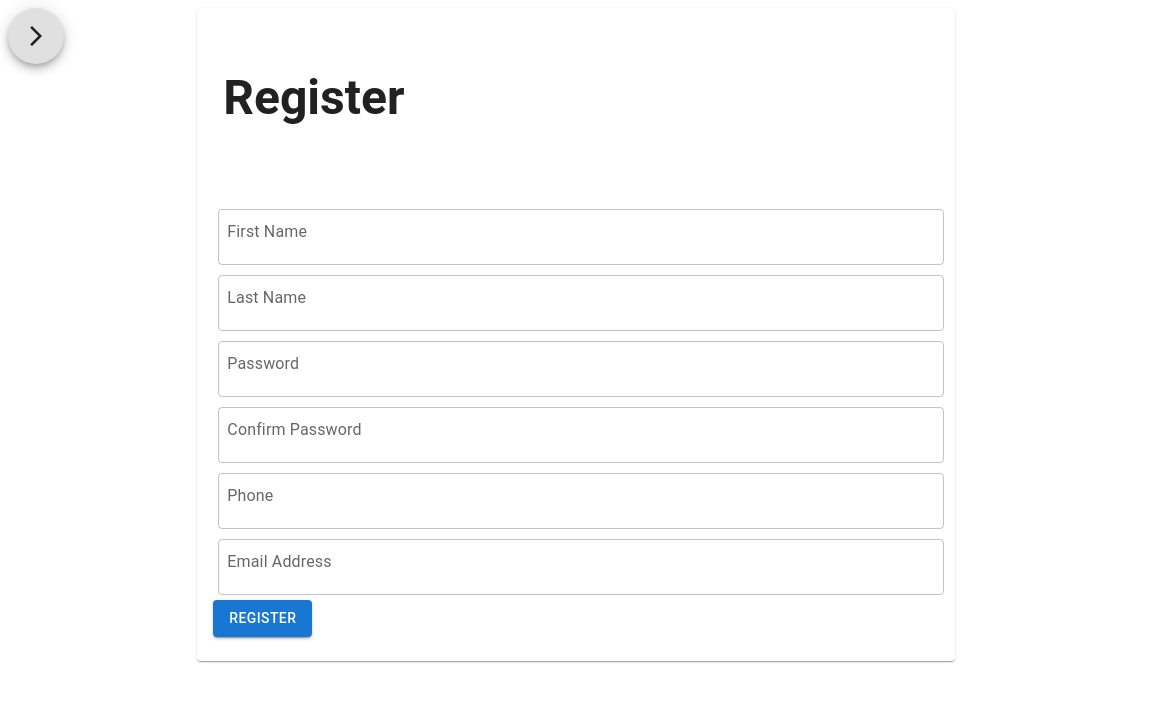
Register Page › should show Form is incomplete if firstname is incomplete
The image size is (1152, 720).
Type "Doe" into the field labelled "Last Name" at (581, 303), box [218,275,943,331]
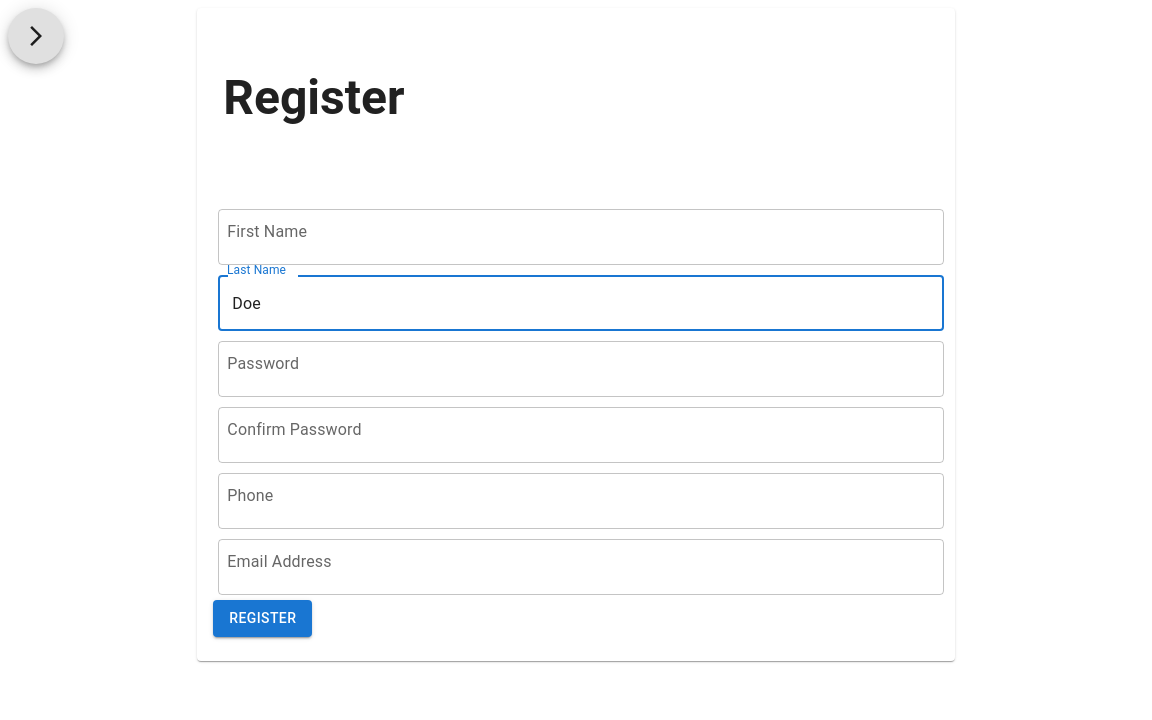
Type "password" into the password field labelled "Password" at (581, 369), box [218,341,943,397]
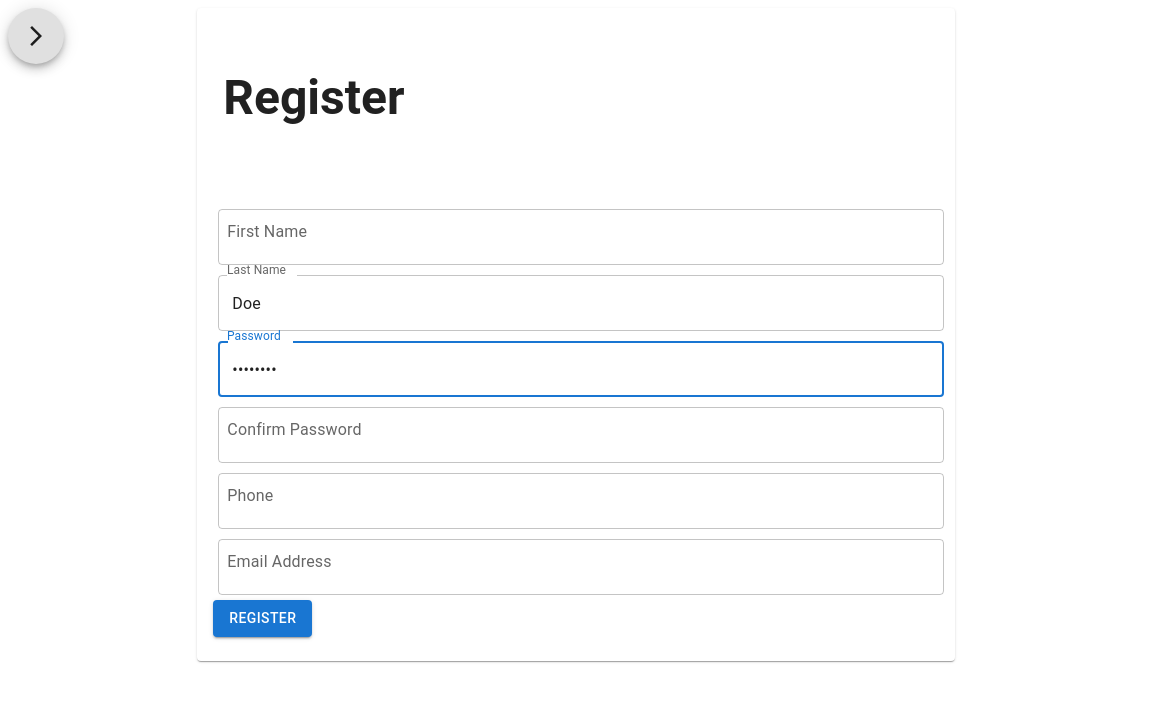
Type "password" into the password field labelled "Confirm Password" at (581, 435), box [218,407,943,463]
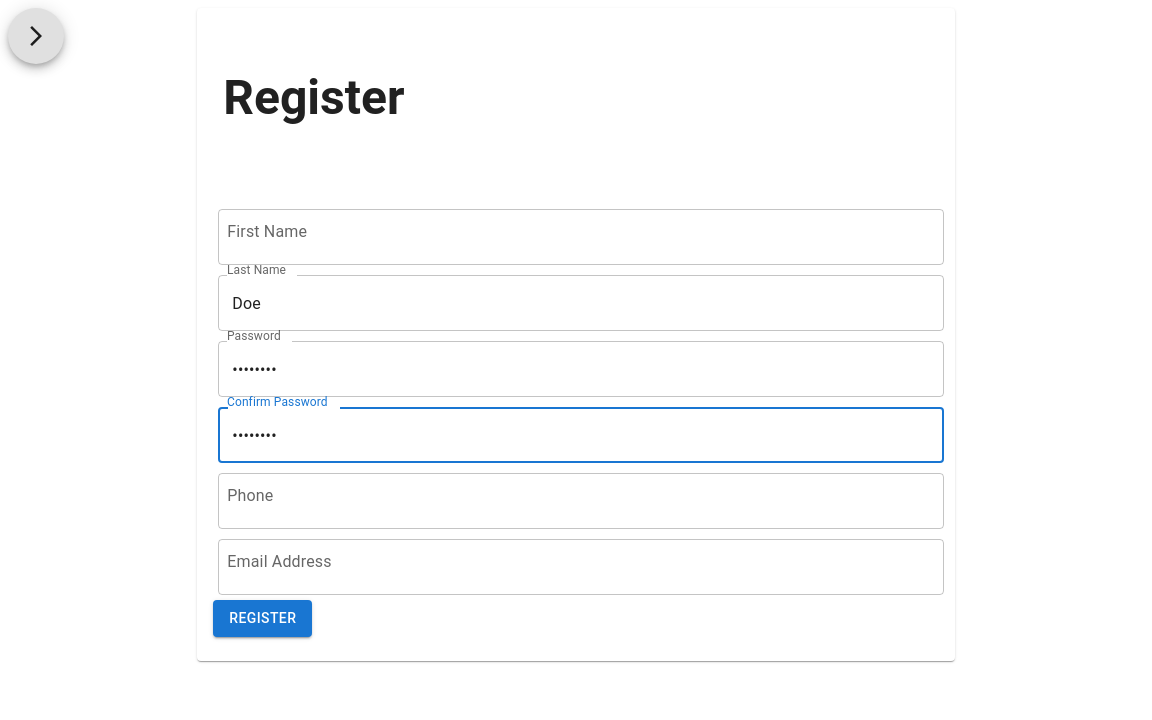
Type "1234567890" into the field labelled "Phone" at (581, 501), box [218,473,943,529]
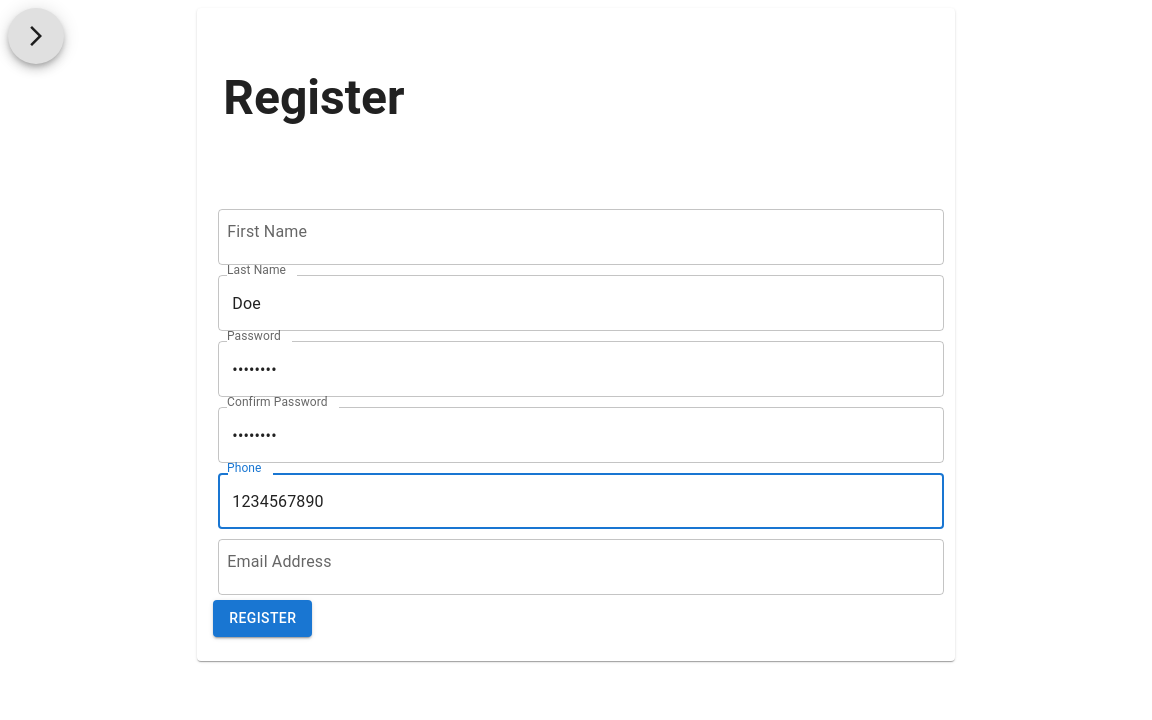
Type "john.doe@gmail" into the field labelled "Email Address" at (581, 567), box [218,539,943,595]
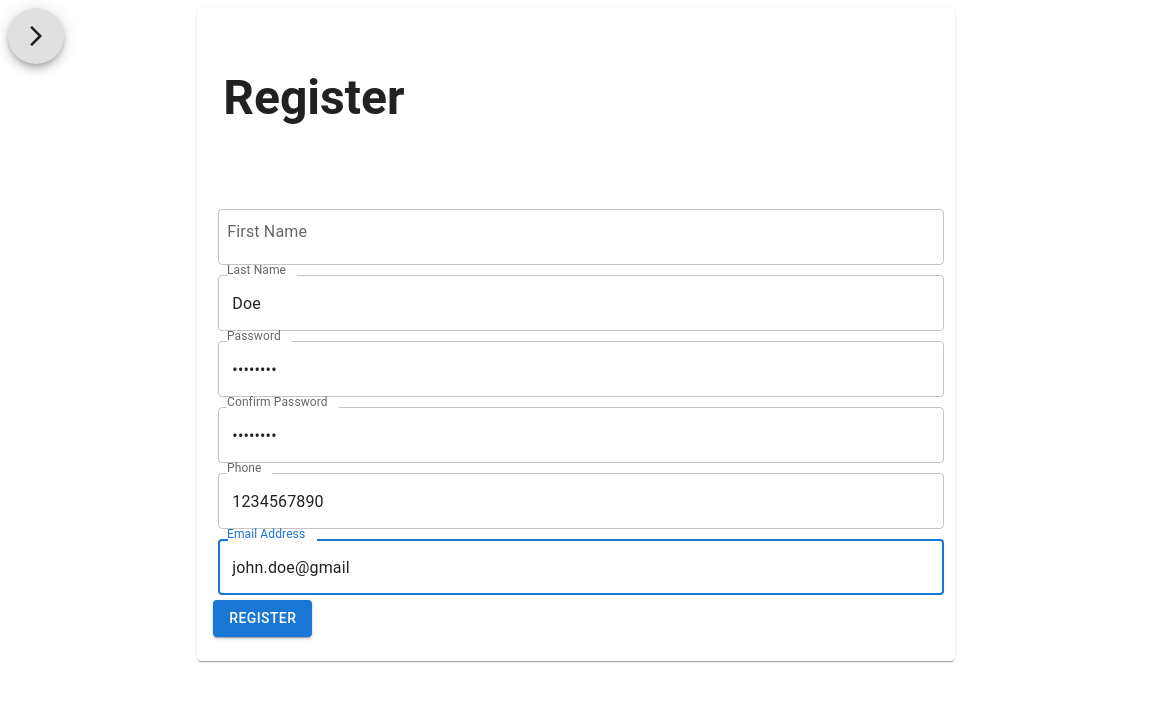
Click the button with id "submit" at (263, 619), box [213,600,312,637]
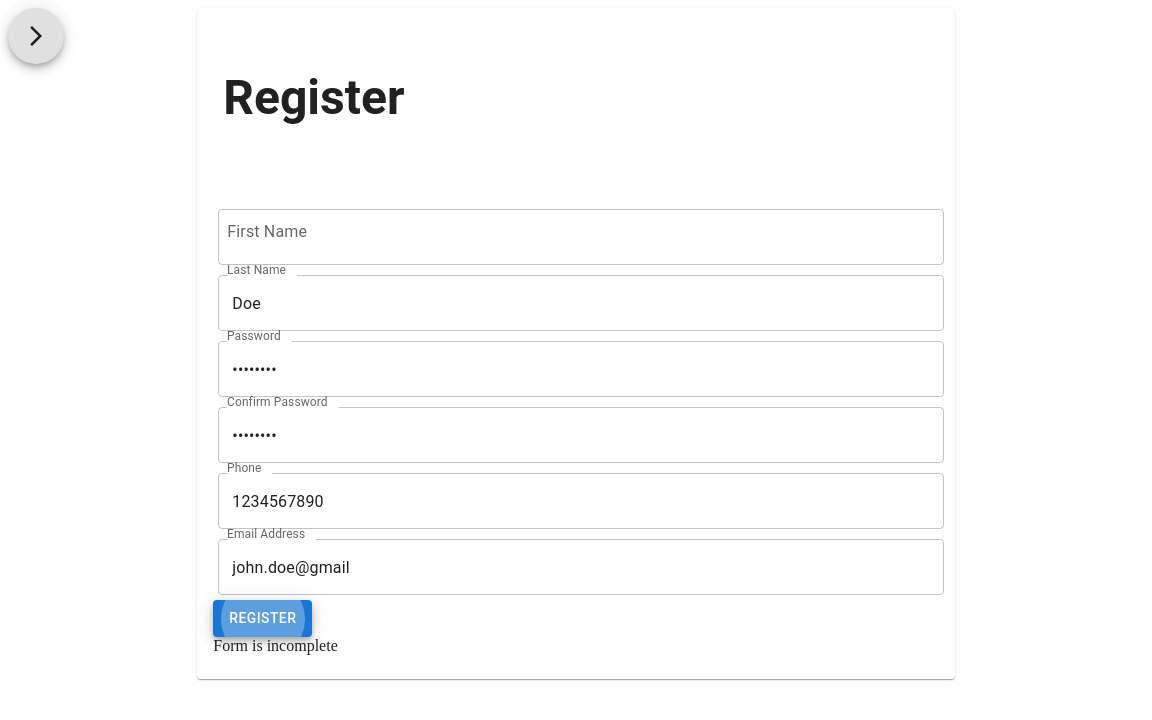
Expected: the heading "Register" is shown, [223,69,404,126]
Expected: the text with id "form-error-register-form" reads "Form is incomplete", [213,637,337,654]
